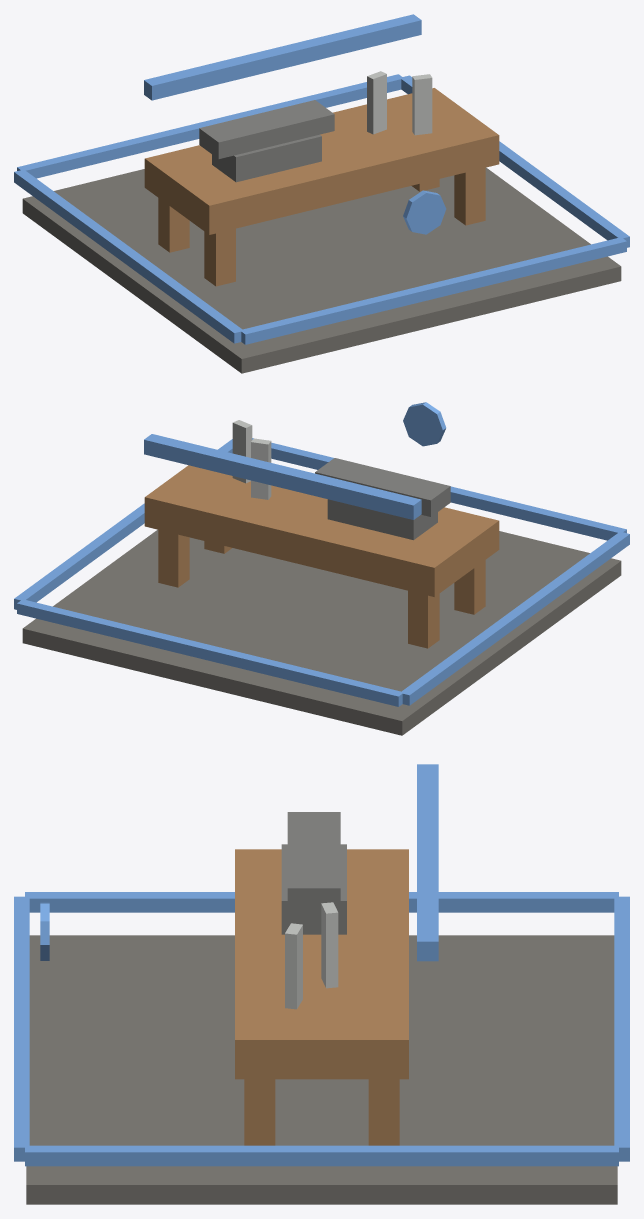
Rendered from t4_toolmaker.glb.
3 renders of one model, top to bottom at view 1: azimuth 30°, elevation 25°; view 2: azimuth 150°, elevation 25°; view 3: azimuth 270°, elevation 25°, orthographic. The views are drawn at different scales.
Parts seen in each view (by area): view 1: FootprintBase, Workbench, TierFrontTrim, ToolRack, TierLeftTrim, TierBackTrim, AnvilTop, AnvilBody, TierRightTrim, BenchLeg, BenchLeg.002, TierEmblem (+3 smaller); view 2: FootprintBase, Workbench, TierBackTrim, ToolRack, TierLeftTrim, TierFrontTrim, AnvilTop, TierRightTrim, AnvilBody, BenchLeg.001, BenchLeg.003, TierEmblem (+3 smaller); view 3: FootprintBase, Workbench, TierRightTrim, TierLeftTrim, AnvilTop, ToolRack, TierFrontTrim, TierBackTrim, BenchLeg.002, BenchLeg.003, AnvilBody, ToolBlankA (+1 smaller).
Part boxes in pixels (box(x1,y1,x2,y2)): FootprintBase: box(22, 167, 621, 373); Workbench: box(144, 88, 499, 234); TierFrontTrim: box(240, 238, 626, 344); ToolRack: box(144, 14, 421, 100); TierLeftTrim: box(14, 169, 242, 343); TierBackTrim: box(17, 74, 403, 178); AnvilTop: box(199, 100, 334, 158); AnvilBody: box(212, 134, 321, 182); TierRightTrim: box(401, 75, 629, 247); BenchLeg: box(204, 228, 235, 286); BenchLeg.002: box(454, 167, 485, 225); TierEmblem: box(403, 190, 446, 234); FootprintBase: box(22, 529, 621, 735); Workbench: box(144, 465, 499, 596); TierBackTrim: box(17, 599, 403, 706); ToolRack: box(144, 434, 421, 519); TierLeftTrim: box(400, 531, 629, 705); TierFrontTrim: box(252, 438, 626, 540); AnvilTop: box(315, 458, 450, 516); TierRightTrim: box(14, 439, 232, 609); AnvilBody: box(327, 499, 437, 540); BenchLeg.001: box(408, 590, 439, 648); BenchLeg.003: box(158, 530, 189, 587); TierEmblem: box(403, 402, 446, 446); FootprintBase: box(26, 935, 617, 1204); Workbench: box(235, 849, 408, 1079); TierRightTrim: box(25, 1145, 618, 1166); TierLeftTrim: box(25, 892, 618, 912); AnvilTop: box(287, 812, 340, 910); ToolRack: box(417, 764, 438, 961); TierFrontTrim: box(14, 896, 29, 1161); TierBackTrim: box(614, 896, 629, 1161); BenchLeg.002: box(244, 1079, 275, 1145); BenchLeg.003: box(368, 1079, 399, 1145); AnvilBody: box(281, 844, 346, 934); ToolBlankA: box(321, 902, 338, 988).
Size of the model in its own units: 3.96 by 1.61 by 3.96.
